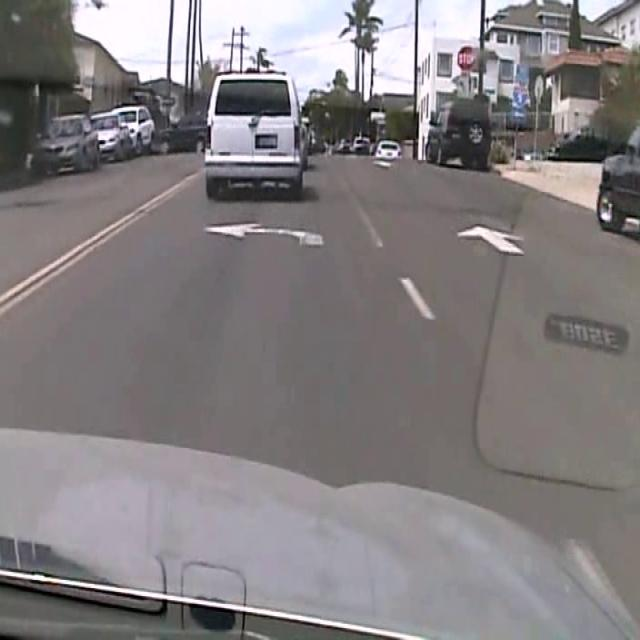stop_sign: (456, 44, 476, 73)
